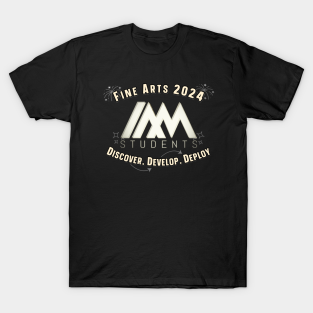design: (100, 79, 217, 173)
